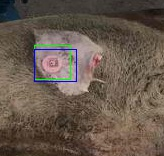text: (34, 45, 70, 79)
